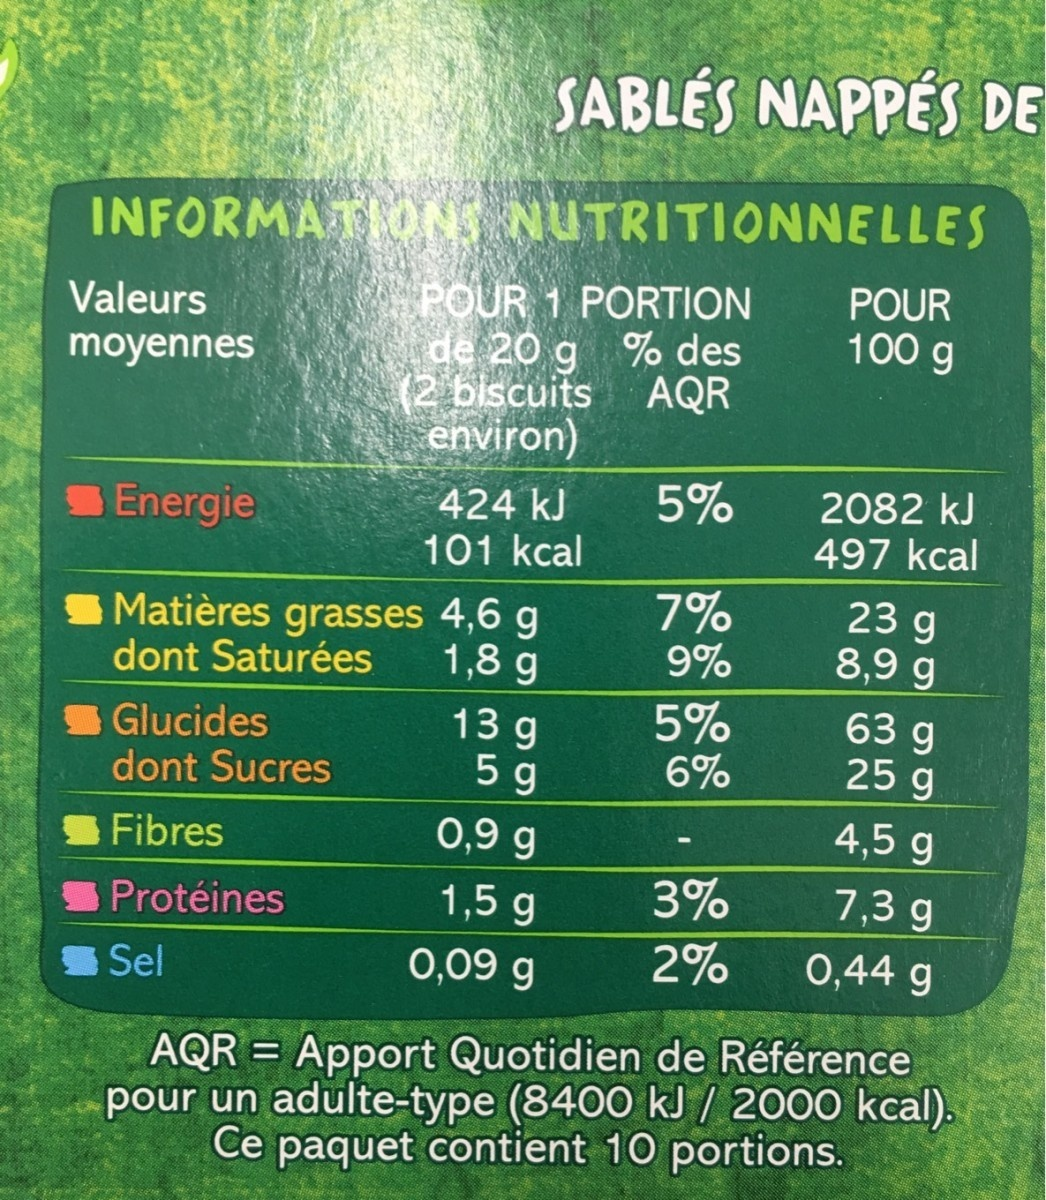column: (64, 468, 398, 995), (802, 486, 982, 1001), (409, 483, 585, 995), (644, 477, 738, 1003)
table: (36, 174, 1029, 1015)
